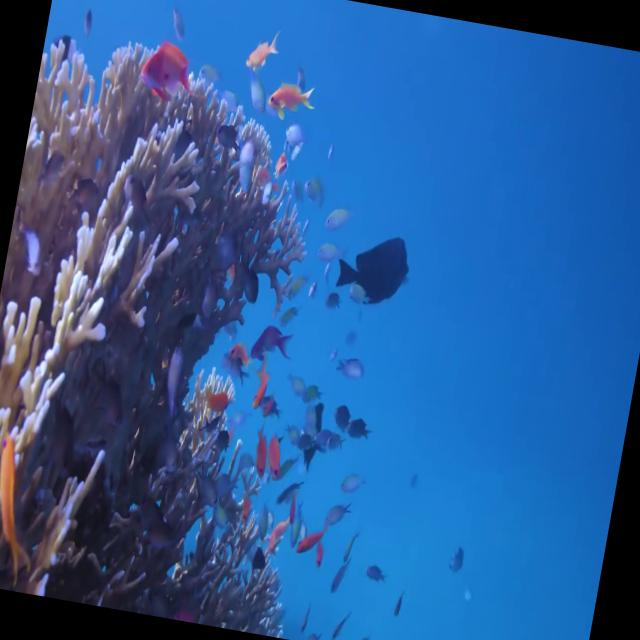fish: (325, 218, 423, 318), (0, 418, 59, 574), (128, 32, 201, 104), (264, 64, 324, 125), (237, 18, 292, 82), (250, 312, 302, 368), (255, 422, 291, 492), (275, 109, 312, 170), (246, 356, 284, 414), (213, 323, 252, 378), (240, 418, 272, 484), (317, 198, 363, 240), (298, 160, 334, 210), (358, 545, 392, 592), (304, 236, 340, 280), (306, 534, 336, 586), (195, 376, 234, 416), (293, 521, 329, 563), (328, 347, 367, 385), (335, 461, 372, 501), (340, 411, 376, 452), (290, 414, 323, 456), (328, 389, 358, 433), (322, 494, 358, 530), (376, 628, 405, 640)
